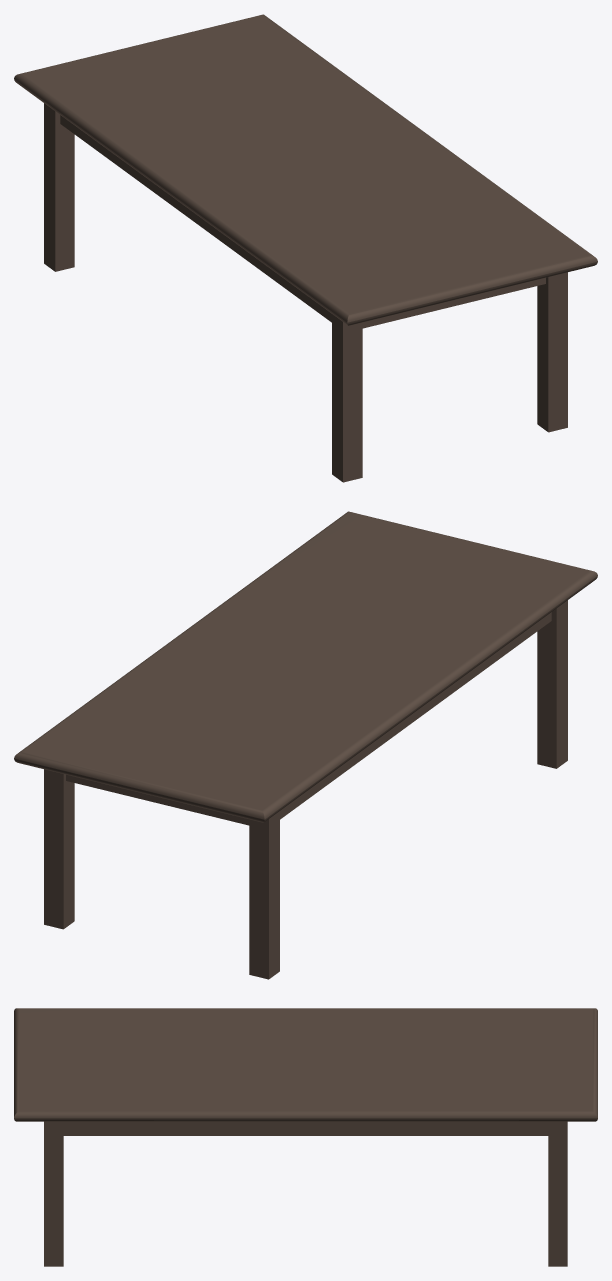
File: GrandeTable_36.fbx
3 views of the same model, one above another, from view 1: azimuth 30°, elevation 25°; view 2: azimuth 150°, elevation 25°; view 3: azimuth 270°, elevation 25° (orthographic). The views are drawn at different scales.
Visible parts, largest first — view 1: pCube80, pCube82, pCube81, pCube83; view 2: pCube80, pCube83, pCube84, pCube82; view 3: pCube80, pCube84, pCube81.
Part boxes in pixels (bbox=[...]): pCube80: bbox=[14, 14, 597, 328]; pCube82: bbox=[332, 314, 362, 482]; pCube81: bbox=[537, 272, 567, 432]; pCube83: bbox=[44, 103, 74, 271]; pCube80: bbox=[14, 511, 597, 825]; pCube83: bbox=[249, 811, 279, 979]; pCube84: bbox=[44, 769, 74, 929]; pCube82: bbox=[537, 600, 567, 768]; pCube80: bbox=[14, 1008, 597, 1135]; pCube84: bbox=[548, 1121, 567, 1266]; pCube81: bbox=[44, 1121, 63, 1266].
Size of the model in its own units: 57.3 by 39.63 by 132.
